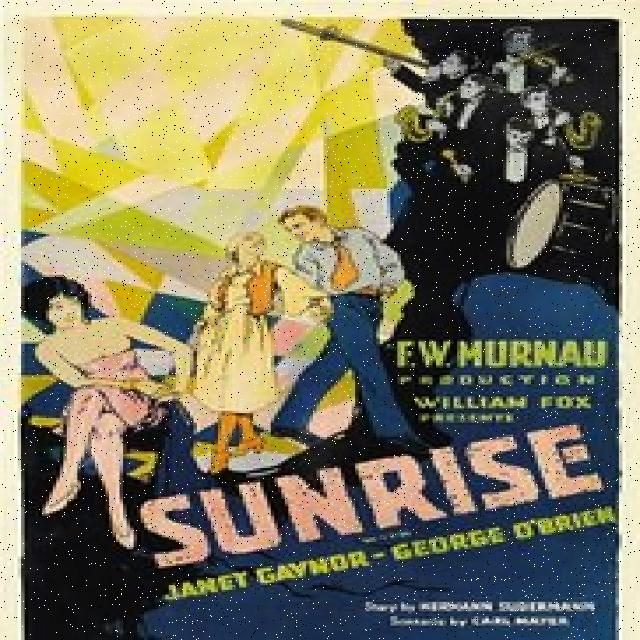movie-judul: (140, 424, 615, 636)
picture: (34, 210, 395, 449), (290, 20, 622, 260)
